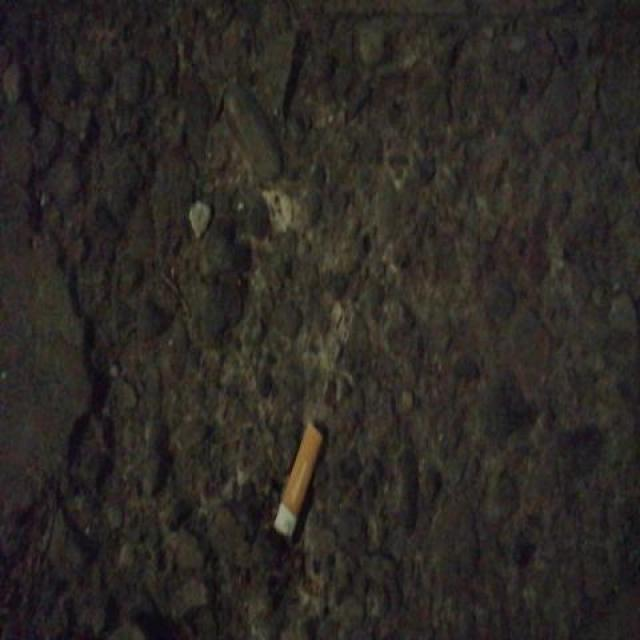non-organic waste: (270, 417, 326, 547)
